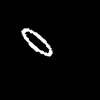chain: (22, 29, 51, 55)
